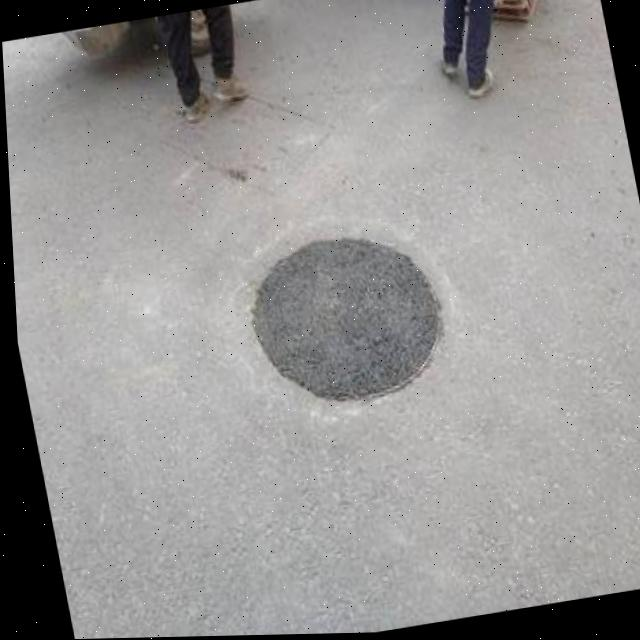manhole: (210, 208, 466, 433)
